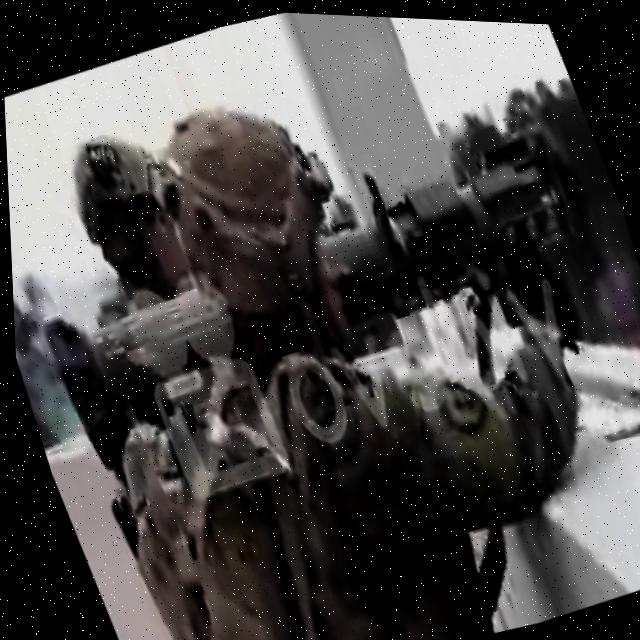rocket: (306, 118, 605, 320)
